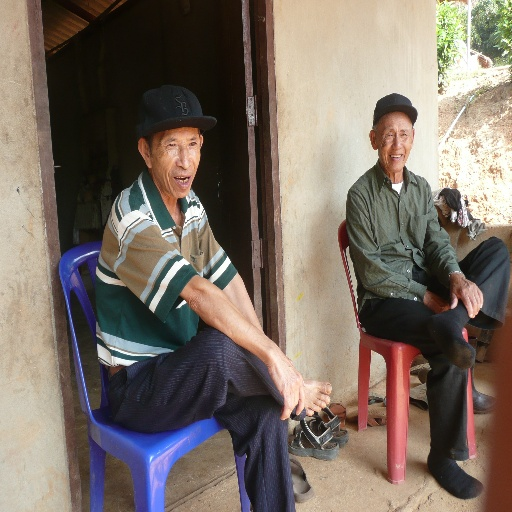hand: (267, 351, 305, 419), (450, 272, 484, 319), (422, 289, 447, 314), (287, 355, 294, 365)
